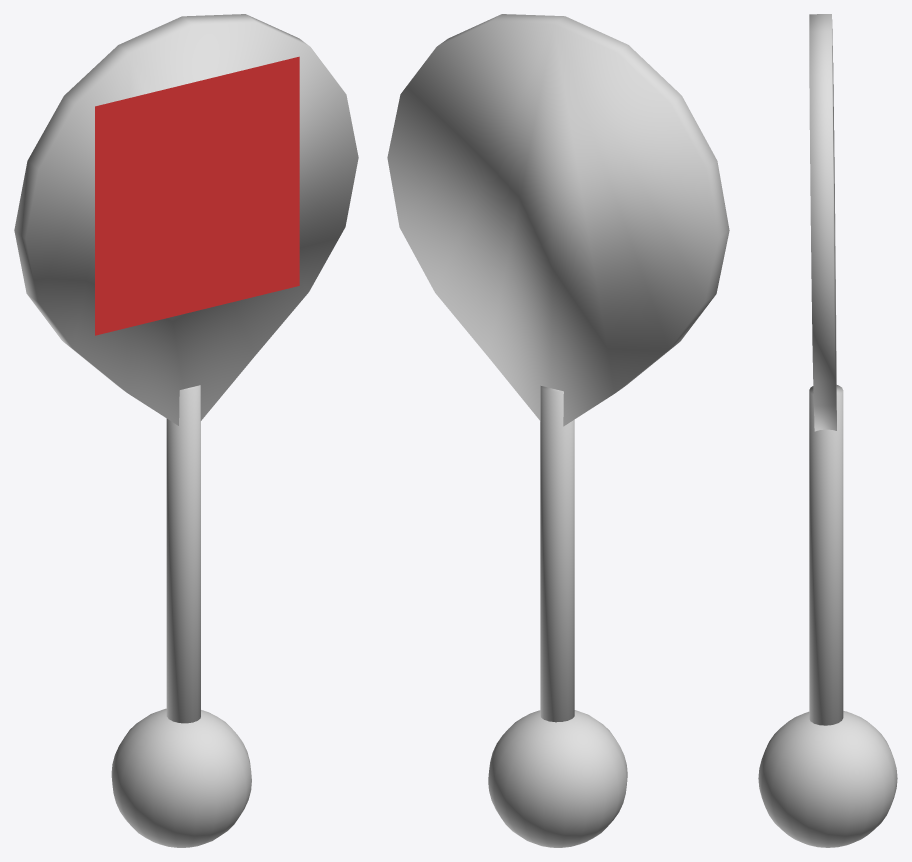
Rendered from marker.glb.
The picture shows the model from 3 angles, left to right: view 1: azimuth 30°, elevation 25°; view 2: azimuth 150°, elevation 25°; view 3: azimuth 270°, elevation 25°; orthographic projection.
Visible parts, largest first — view 1: Node1, Plane; view 2: Node1; view 3: Node1.
Part boxes in pixels (x1,y1,x2,y2): Node1: (14,14,358,847); Plane: (95,56,299,335); Node1: (387,14,729,847); Node1: (758,14,897,847).
Bounding box in the file's own units: 16.27 × 38.43 × 5.98.
